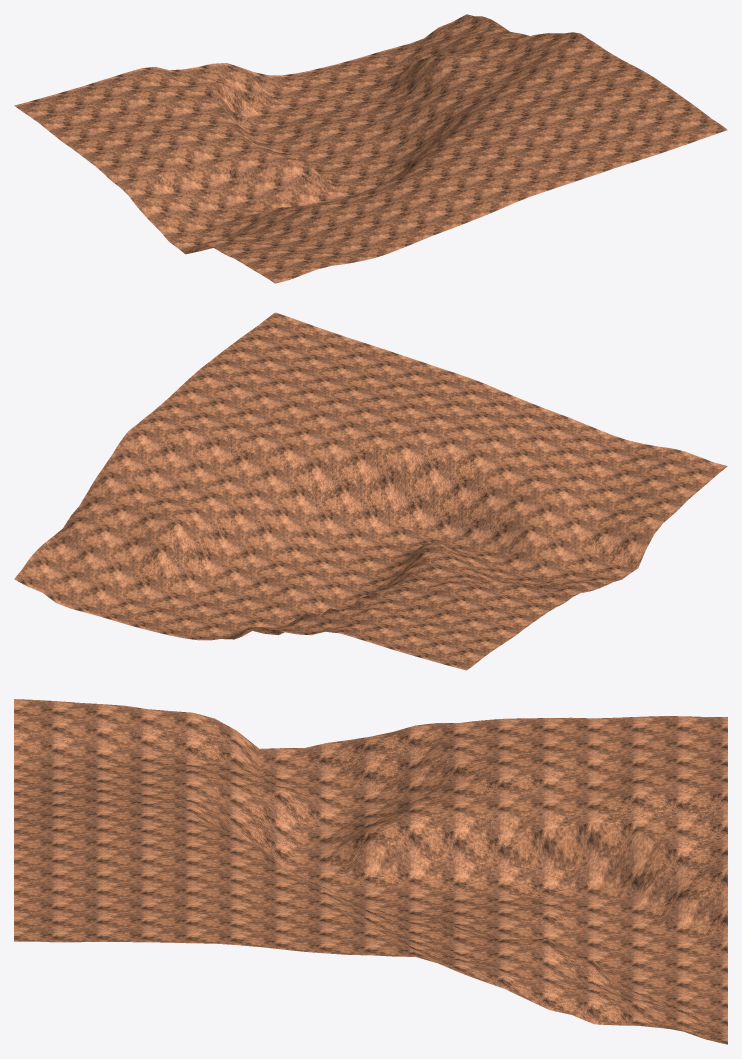
The model's file is terrain_02_16.dae.
3 views of the same model, one above another, from view 1: azimuth 30°, elevation 25°; view 2: azimuth 150°, elevation 25°; view 3: azimuth 270°, elevation 25° (orthographic). The views are drawn at different scales.
Visible parts, largest first — view 1: terrain_02_16-node; view 2: terrain_02_16-node; view 3: terrain_02_16-node.
Part boxes in pixels (bbox=[...]): terrain_02_16-node: bbox=[14, 14, 727, 283]; terrain_02_16-node: bbox=[14, 312, 727, 670]; terrain_02_16-node: bbox=[14, 699, 727, 1044].
Size of the model in its own units: 128 by 128 by 25.38.
1 material, 1 textured.
